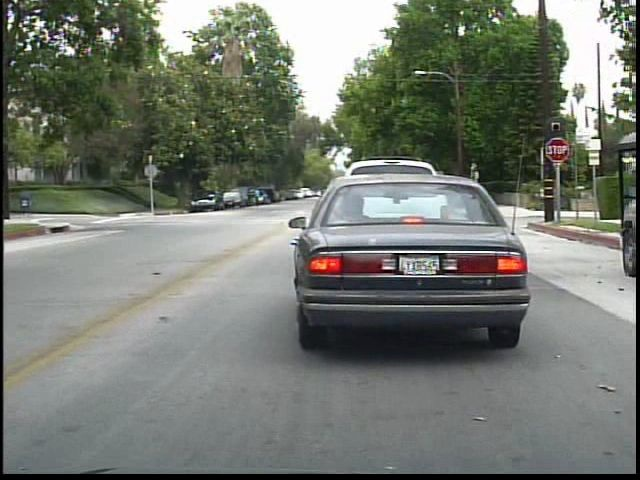person: (252, 185, 264, 209)
